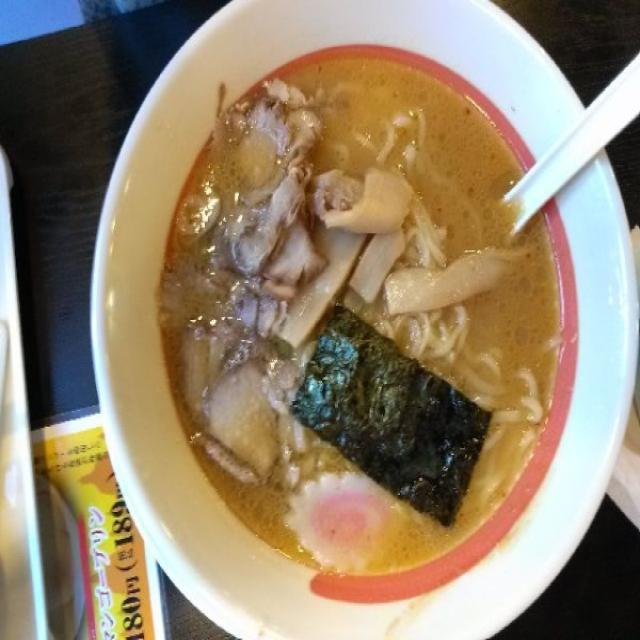面条主食: (85, 0, 640, 640)
